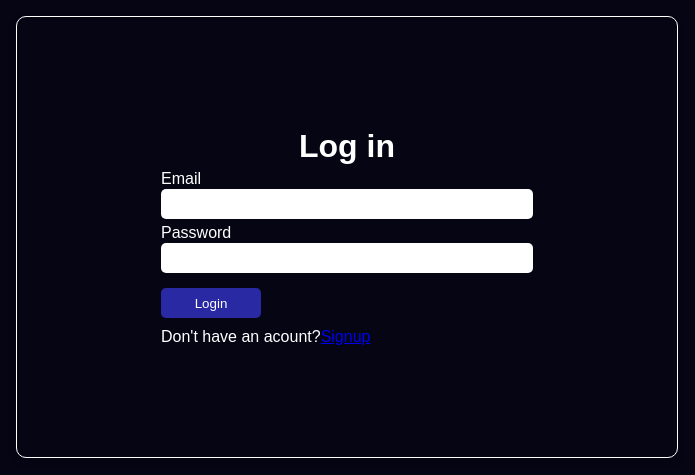
Test: Login Component › displays validation messages for empty fields
The image size is (695, 475).
What coordinates should you click on to do the following:
click the button "Login"
I would click on:
 (211, 303)
Its box is 161,288 -> 261,318.
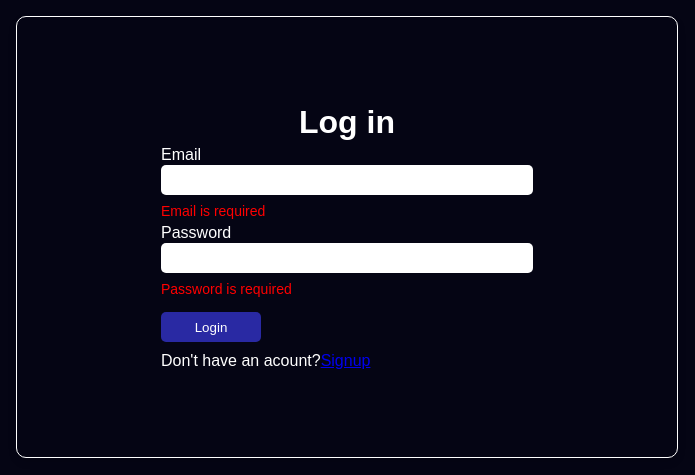
Check: the text "Email is required" is shown, box 161,203 -> 265,219
Check: the text "Password is required" is shown, box 161,281 -> 292,297
